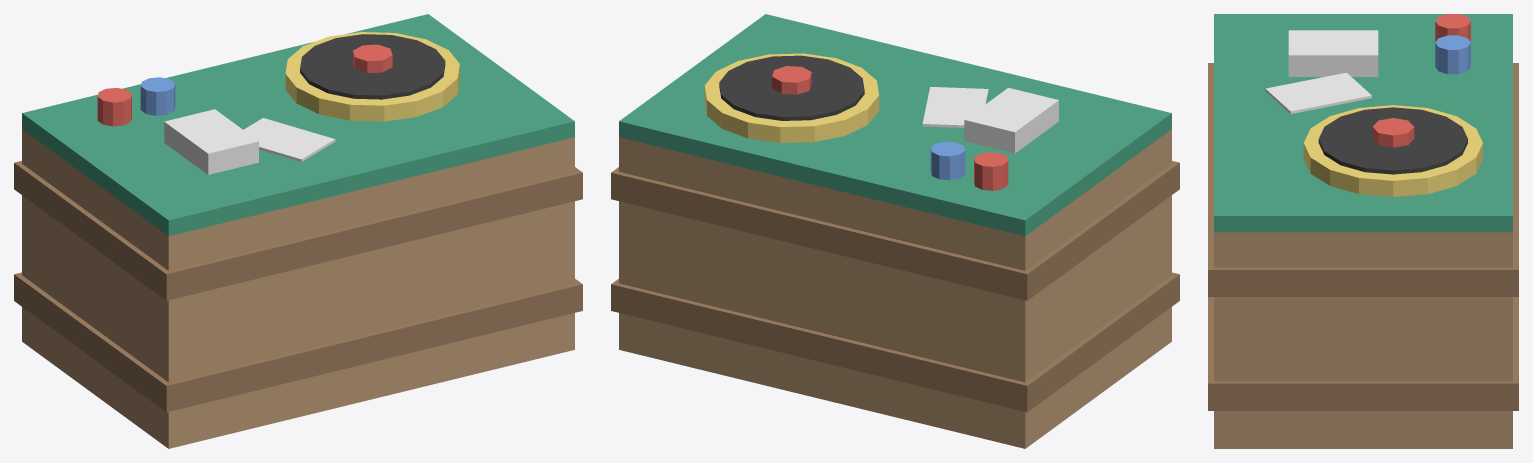
Rendered from CasinoCrate.fbx.
3 views of the same model, side by side, from view 1: azimuth 30°, elevation 25°; view 2: azimuth 150°, elevation 25°; view 3: azimuth 270°, elevation 25° (orthographic).
Parts seen in each view (by area): view 1: Body; view 2: Body; view 3: Body.
Boxes of the visible parts, x1,y1,x2,y2 form: Body: [14, 14, 582, 448]; Body: [611, 14, 1179, 448]; Body: [1208, 14, 1518, 448].
Size of the model in its own units: 1.64 by 0.98 by 1.04.
